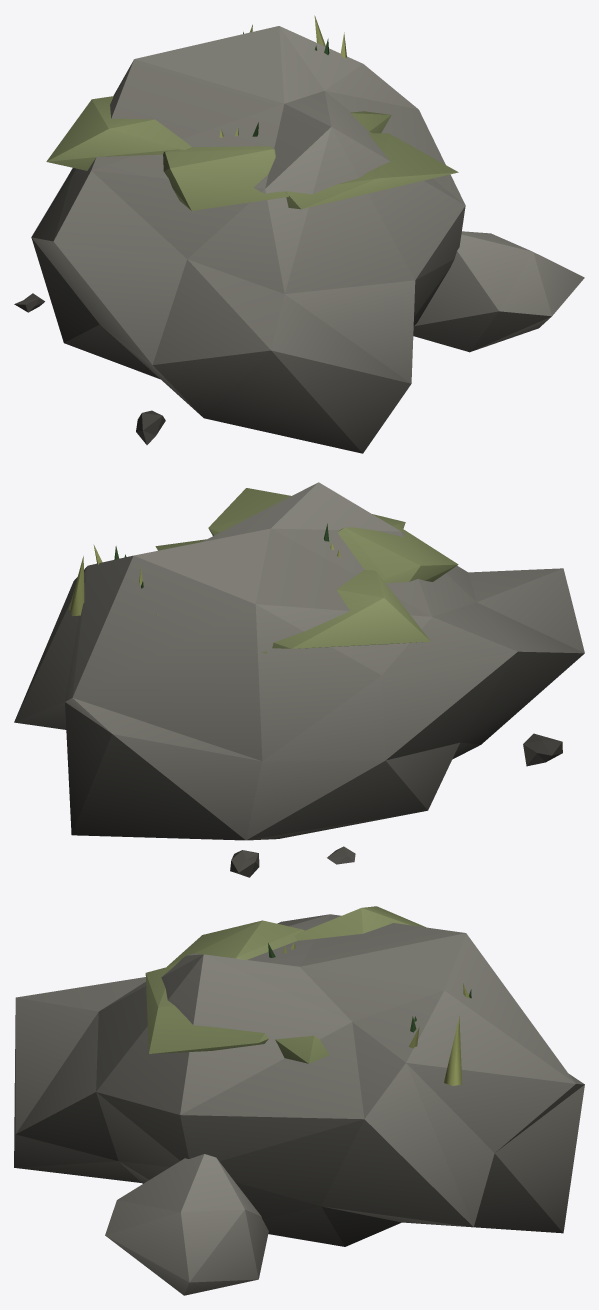
The model's file is mossy-boulder.glb.
3 renders of one model, top to bottom at view 1: azimuth 30°, elevation 25°; view 2: azimuth 150°, elevation 25°; view 3: azimuth 270°, elevation 25°, orthographic.
Parts seen in each view (by area): view 1: mossy_boulder; view 2: mossy_boulder; view 3: mossy_boulder.
Boxes of the visible parts, x1,y1,x2,y2 form: mossy_boulder: (14,15,584,453); mossy_boulder: (14,482,584,877); mossy_boulder: (14,906,584,1295).
Bounding box in the file's own units: 1.66 × 0.8143 × 1.67.
